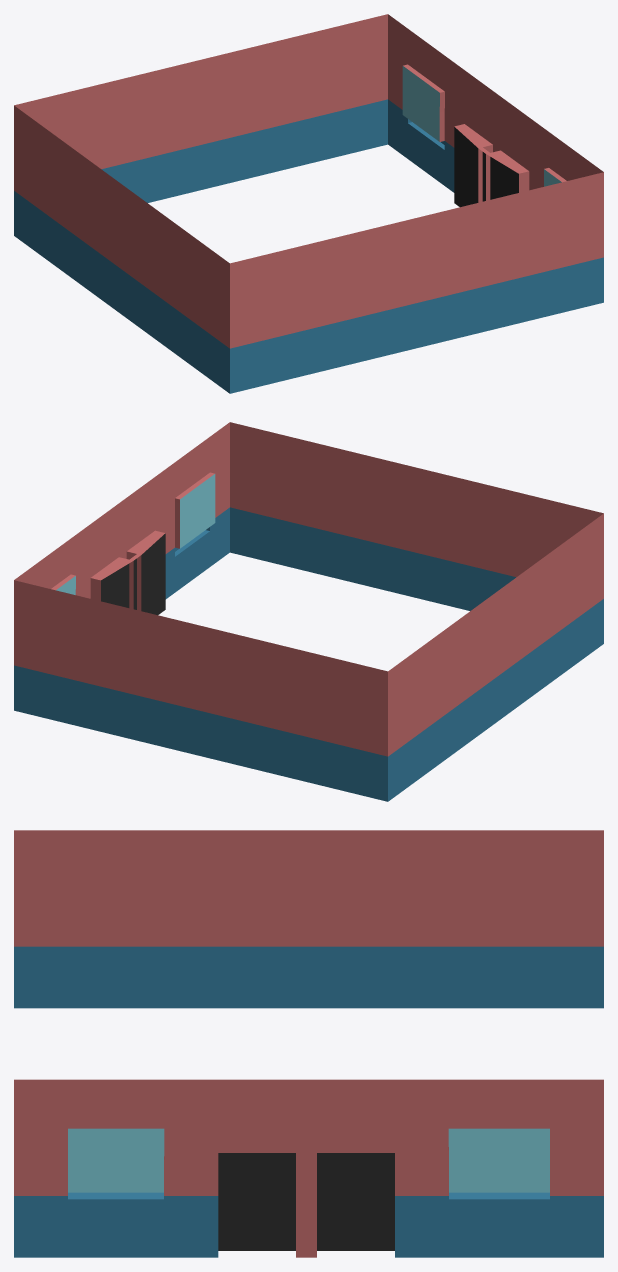
The model's file is SkyScraper_Bottom_02_red.fbx.
3 views of the same model, one above another, from view 1: azimuth 30°, elevation 25°; view 2: azimuth 150°, elevation 25°; view 3: azimuth 270°, elevation 25° (orthographic). The views are drawn at different scales.
Parts seen in each view (by area): view 1: SkyScraper1_Bottom_06; view 2: SkyScraper1_Bottom_06; view 3: SkyScraper1_Bottom_06.
Part boxes in pixels (box(x1,y1,x2,y2)): SkyScraper1_Bottom_06: box(14, 14, 603, 393); SkyScraper1_Bottom_06: box(14, 422, 603, 801); SkyScraper1_Bottom_06: box(14, 830, 603, 1257).
Bounding box in the file's own units: 97.29 × 32 × 96.
